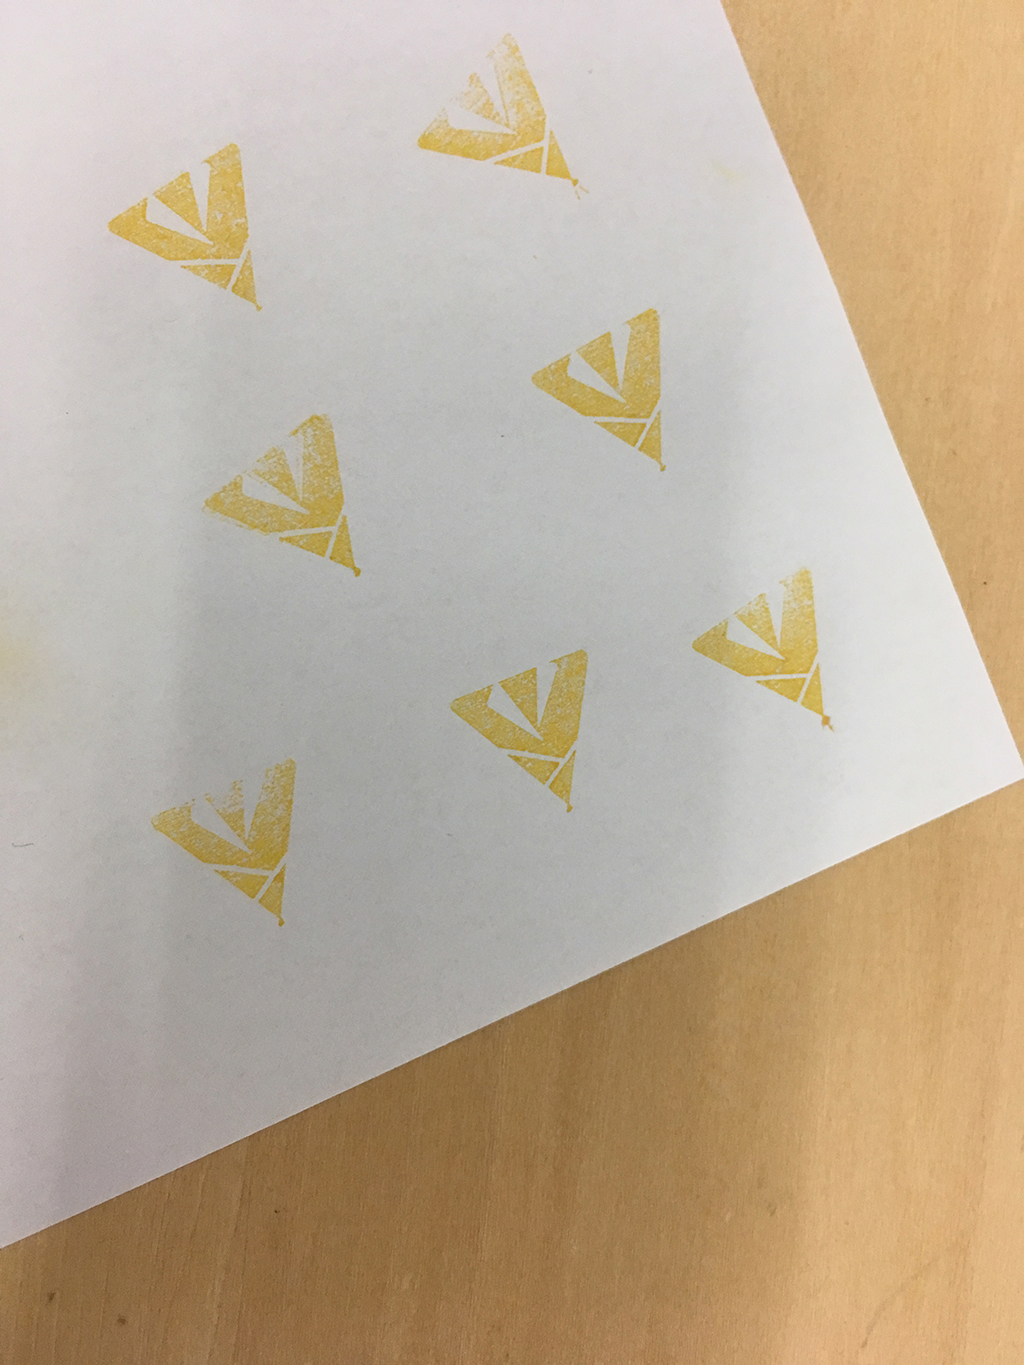tent: (89, 125, 283, 333), (400, 28, 606, 208), (202, 400, 382, 601), (673, 552, 847, 735), (520, 296, 683, 488), (148, 747, 305, 936), (445, 639, 602, 821)
